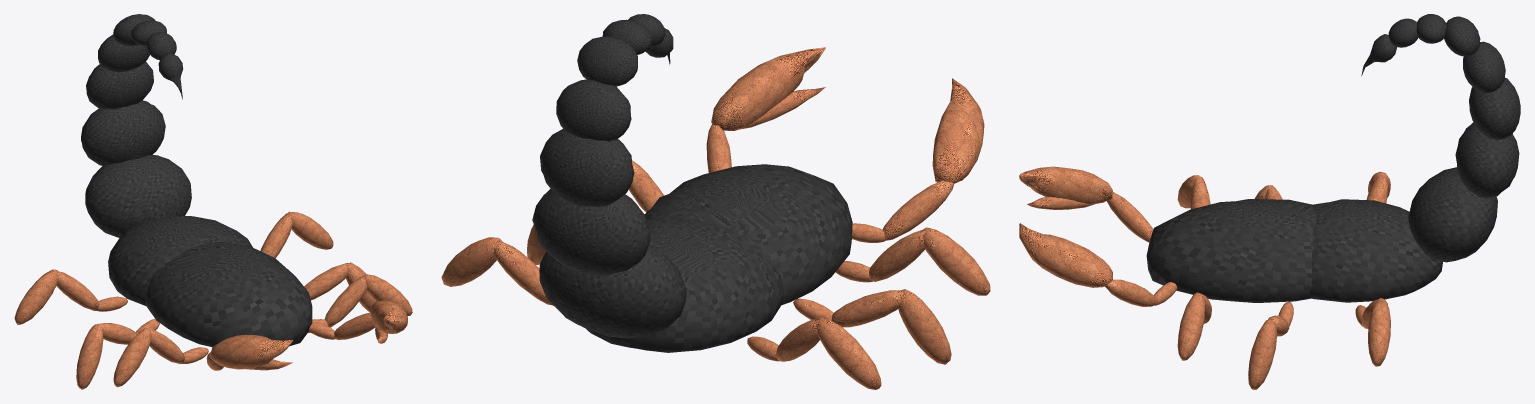
Rendered from scorpion_000006.obj.
3 renders of one model, left to right at view 1: azimuth 30°, elevation 25°; view 2: azimuth 150°, elevation 25°; view 3: azimuth 270°, elevation 25°, orthographic. The views are drawn at different scales.
Visible parts, largest first — view 1: Sphere.010_Sphere.012, Sphere.002_Sphere.004, Sphere.011_Sphere.013, Sphere.003_Sphere.005, Sphere.030_Sphere.000, Sphere.004_Sphere.006, Sphere.014_Sphere.023, Sphere.000_Sphere.019, Sphere.013_Sphere.017, Sphere.012_Sphere.020, Sphere.018_Sphere.025, Sphere.016_Sphere.022 (+9 smaller); view 2: Sphere.010_Sphere.012, Sphere.011_Sphere.013, Sphere.002_Sphere.004, Sphere.030_Sphere.000, Sphere.003_Sphere.005, Sphere.004_Sphere.006, Sphere.014_Sphere.023, Sphere.005_Sphere.007, Sphere.028_Sphere.046, Sphere.018_Sphere.025, Sphere.012_Sphere.020, Sphere.013_Sphere.017 (+10 smaller); view 3: Sphere.010_Sphere.012, Sphere.011_Sphere.013, Sphere.002_Sphere.004, Sphere.030_Sphere.000, Sphere.003_Sphere.005, Sphere.004_Sphere.006, Sphere.028_Sphere.046, Sphere.000_Sphere.019, Sphere.005_Sphere.007, Sphere.012_Sphere.020, Sphere.014_Sphere.023, Sphere.006_Sphere.008 (+7 smaller).
Part boxes in pixels (x1,y1,x2,y2): Sphere.010_Sphere.012: [145, 242, 312, 347]; Sphere.002_Sphere.004: [85, 154, 191, 237]; Sphere.011_Sphere.013: [108, 216, 252, 305]; Sphere.003_Sphere.005: [81, 100, 165, 165]; Sphere.030_Sphere.000: [210, 300, 407, 369]; Sphere.004_Sphere.006: [86, 61, 153, 109]; Sphere.014_Sphere.023: [14, 211, 333, 324]; Sphere.000_Sphere.019: [113, 274, 412, 387]; Sphere.013_Sphere.017: [149, 275, 367, 363]; Sphere.012_Sphere.020: [76, 262, 376, 389]; Sphere.018_Sphere.025: [56, 213, 292, 310]; Sphere.016_Sphere.022: [95, 263, 348, 344]; Sphere.010_Sphere.012: [644, 164, 852, 304]; Sphere.011_Sphere.013: [586, 215, 783, 352]; Sphere.002_Sphere.004: [539, 244, 686, 338]; Sphere.030_Sphere.000: [711, 47, 984, 183]; Sphere.003_Sphere.005: [532, 189, 650, 275]; Sphere.004_Sphere.006: [540, 129, 634, 207]; Sphere.014_Sphere.023: [441, 237, 881, 389]; Sphere.005_Sphere.007: [556, 79, 631, 141]; Sphere.028_Sphere.046: [706, 124, 953, 240]; Sphere.018_Sphere.025: [493, 241, 819, 361]; Sphere.012_Sphere.020: [527, 224, 951, 364]; Sphere.013_Sphere.017: [628, 160, 925, 281]; Sphere.010_Sphere.012: [1146, 199, 1316, 302]; Sphere.011_Sphere.013: [1310, 199, 1442, 302]; Sphere.002_Sphere.004: [1408, 167, 1497, 262]; Sphere.030_Sphere.000: [1019, 166, 1112, 287]; Sphere.003_Sphere.005: [1455, 122, 1519, 198]; Sphere.004_Sphere.006: [1469, 77, 1520, 140]; Sphere.028_Sphere.046: [1105, 192, 1156, 306]; Sphere.000_Sphere.019: [1177, 175, 1204, 360]; Sphere.005_Sphere.007: [1463, 41, 1505, 93]; Sphere.012_Sphere.020: [1248, 185, 1277, 389]; Sphere.014_Sphere.023: [1368, 171, 1390, 366]; Sphere.006_Sphere.008: [1444, 16, 1480, 56].
Bounding box in the file's own units: 0.9623 × 0.7861 × 1.21.
Materials: 2 (2 with a texture image).
